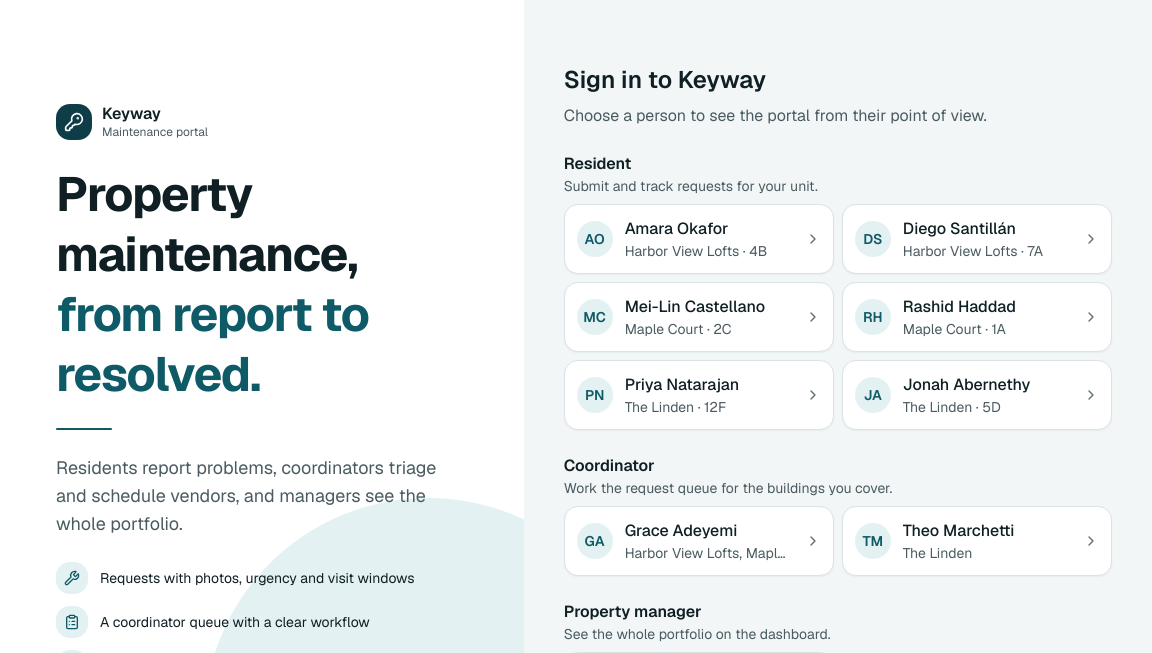
Test: sign-in and route gating › signs in as Amara Okafor from the role picker
The image size is (1152, 653).
Step 1. Click the button "Amara Okafor" → point(699, 239), box [564,204,834,274]
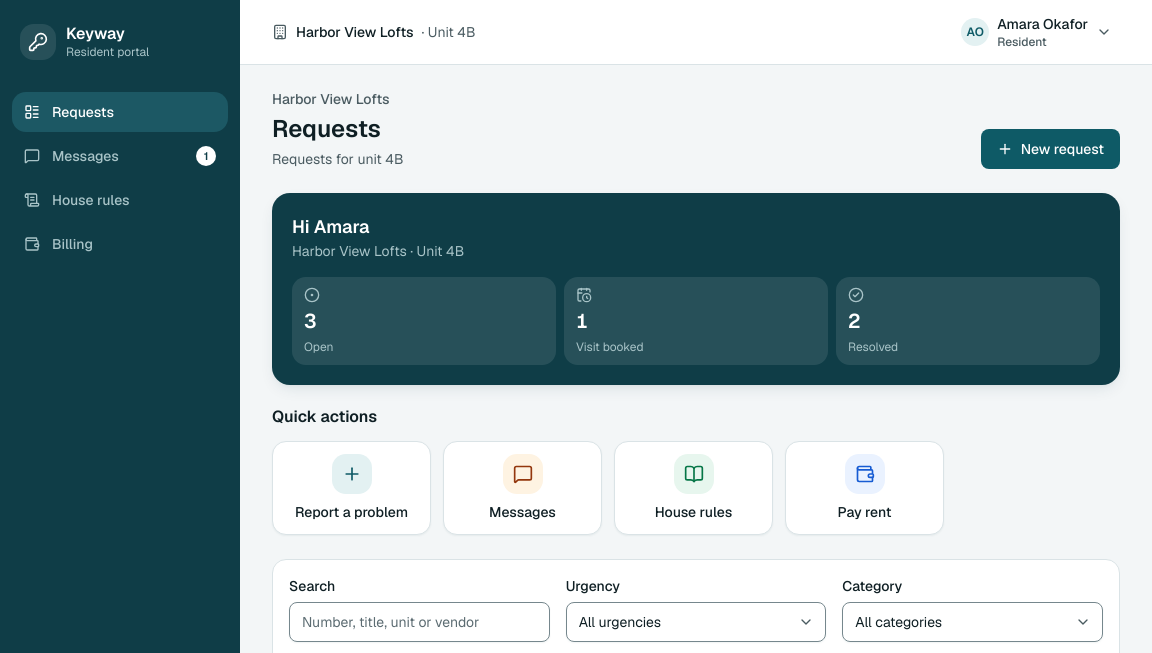
Now the heading "Requests" is shown, box [272,113,381,144]
